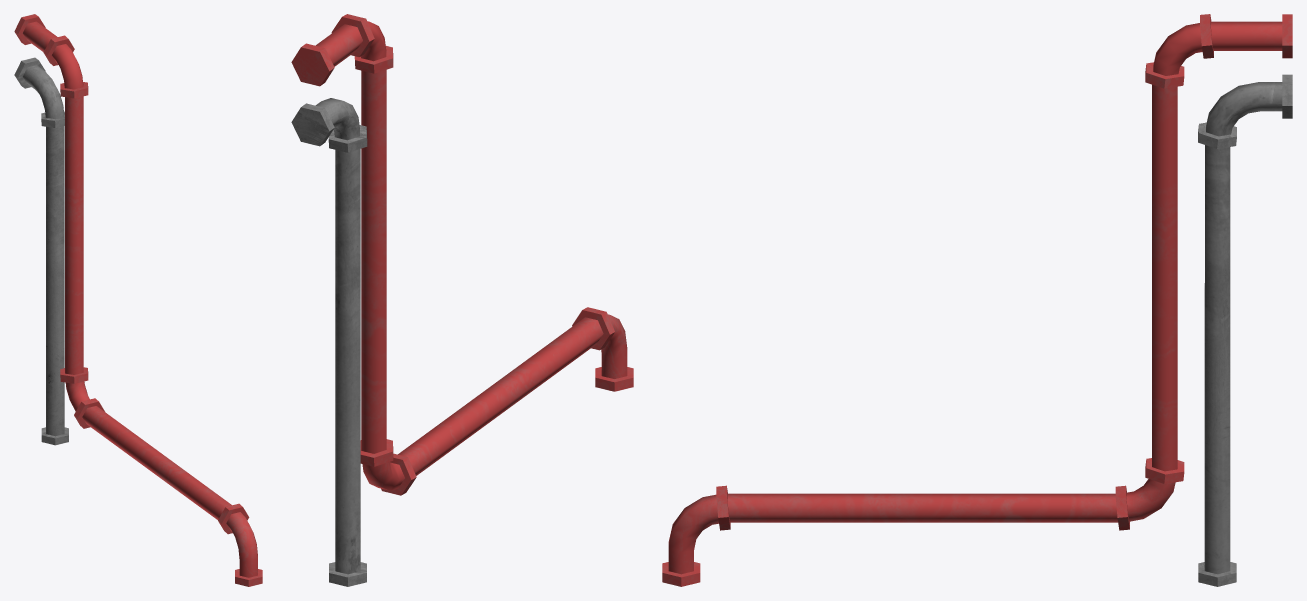
The model's file is Pipes1.fbx.
3 views of the same model, side by side, from view 1: azimuth 30°, elevation 25°; view 2: azimuth 150°, elevation 25°; view 3: azimuth 270°, elevation 25° (orthographic). The views are drawn at different scales.
Visible parts, largest first — view 1: Pipes1; view 2: Pipes1; view 3: Pipes1.
Part boxes in pixels (left/top/right/bottom): Pipes1: left=14, top=14, right=262, bottom=586; Pipes1: left=291, top=14, right=633, bottom=586; Pipes1: left=662, top=14, right=1292, bottom=586.
Size of the model in its own units: 21 by 293 by 299.
